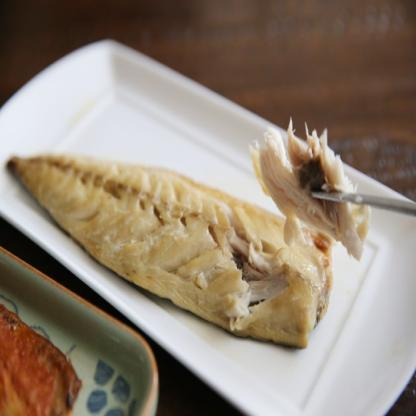Peixe: (0, 92, 385, 332)
